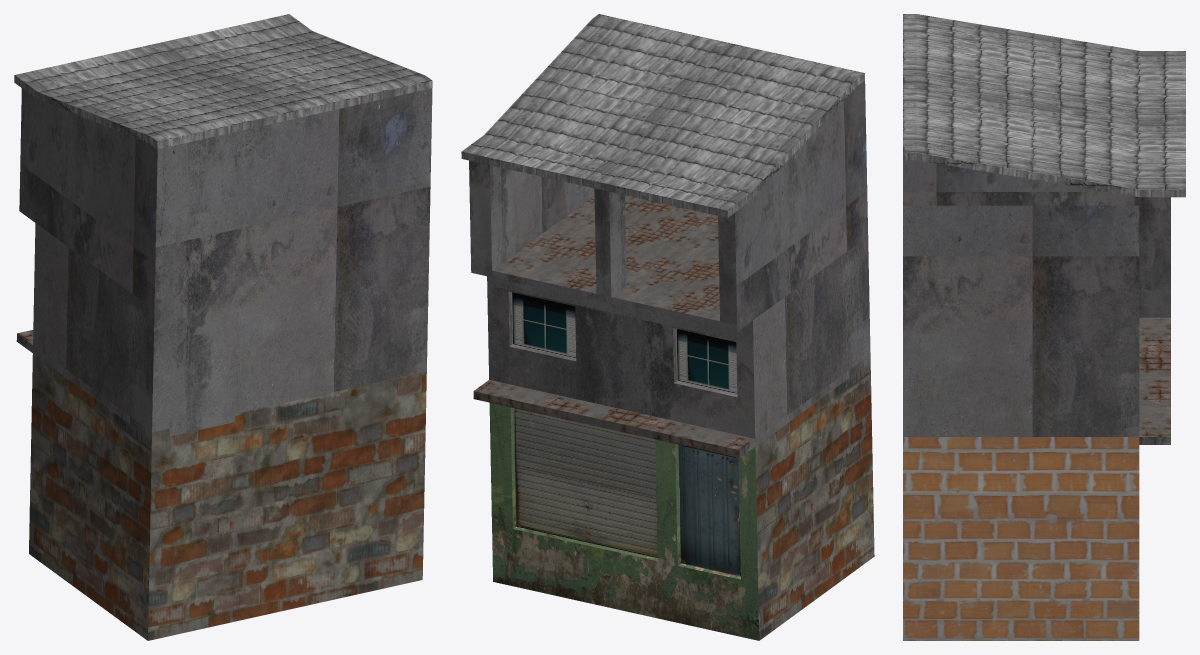
Rendered from casa4.glb.
3 renders of one model, left to right at view 1: azimuth 30°, elevation 25°; view 2: azimuth 150°, elevation 25°; view 3: azimuth 270°, elevation 25°, orthographic. The views are drawn at different scales.
Parts seen in each view (by area): view 1: Cubo; view 2: Cubo; view 3: Cubo.
Boxes of the visible parts, x1,y1,x2,y2 form: Cubo: (14,14,432,640); Cubo: (461,14,874,640); Cubo: (903,14,1185,640).
Bounding box in the file's own units: 2.42 × 4.08 × 2.09.
10 materials, 9 textured.
